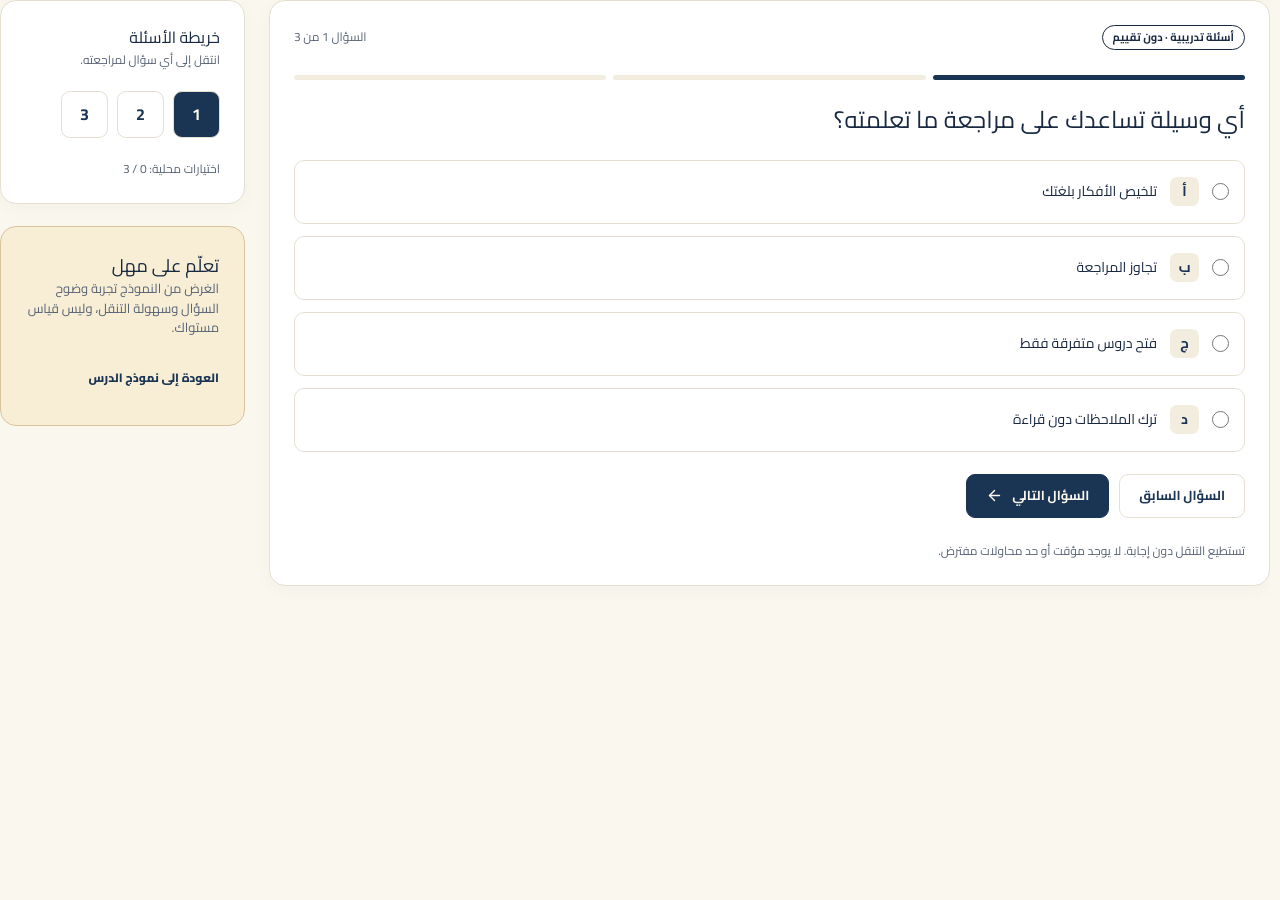
Test: local learner interactions › reviews local quiz answers without grading or submitting a result
The image size is (1280, 900).
Click the radio button labelled "أ تلخيص الأفكار بلغتك".
click(1220, 192)  # box [1212,183,1229,200]
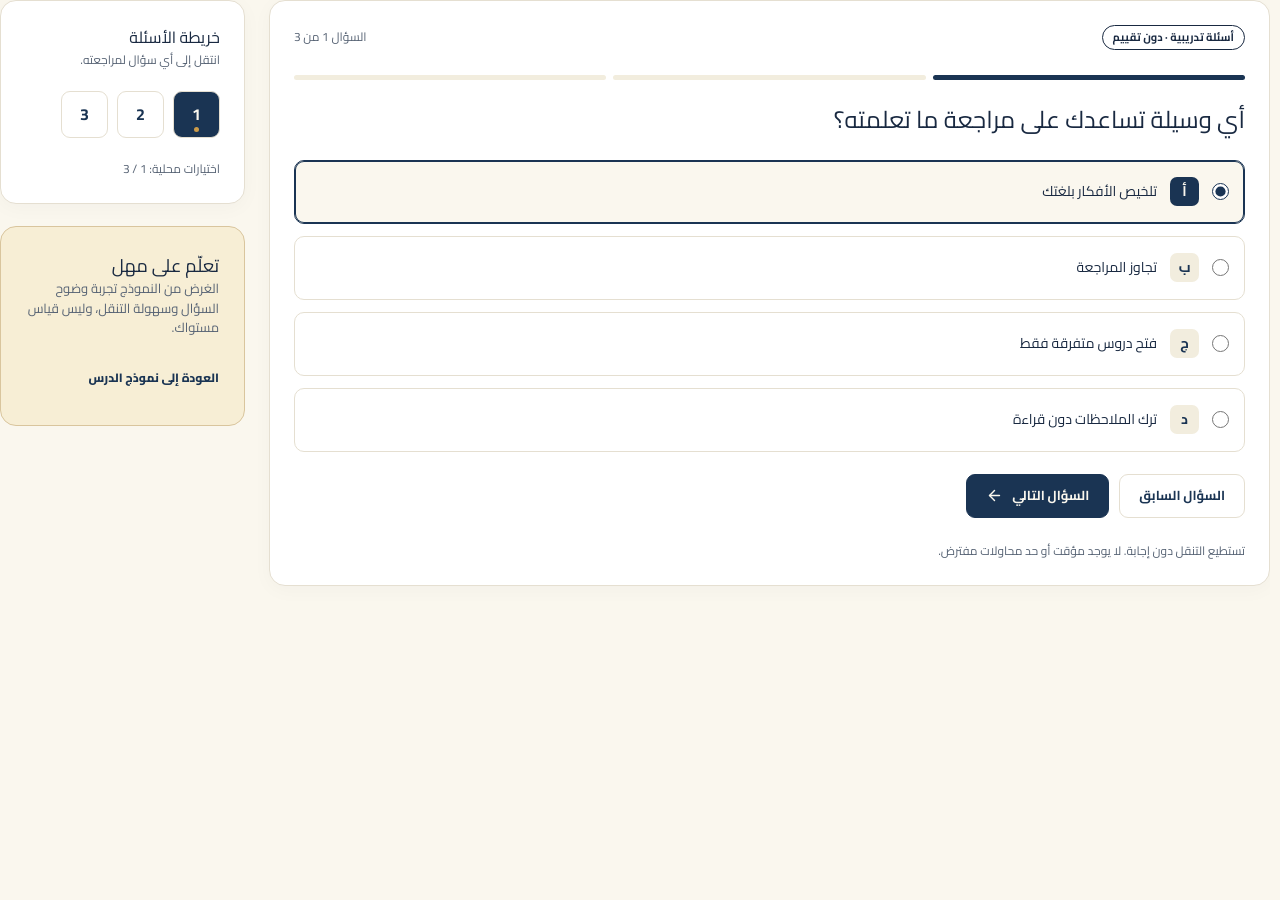
Click the button "السؤال التالي".
click(1038, 496)  # box [966,474,1109,518]
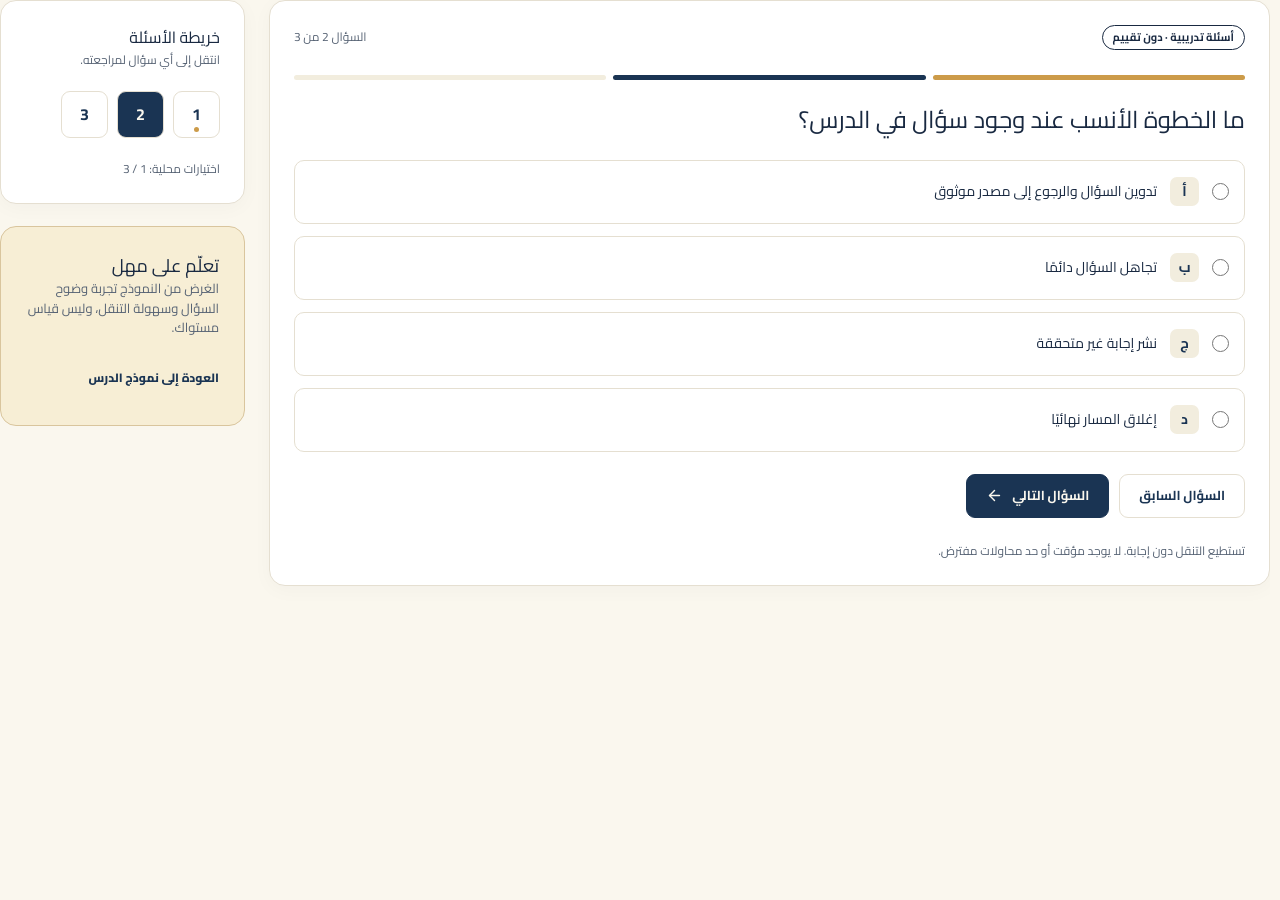
Click the radio button labelled "أ تدوين السؤال والرجوع إلى مصدر موثوق".
click(1220, 192)  # box [1212,183,1229,200]
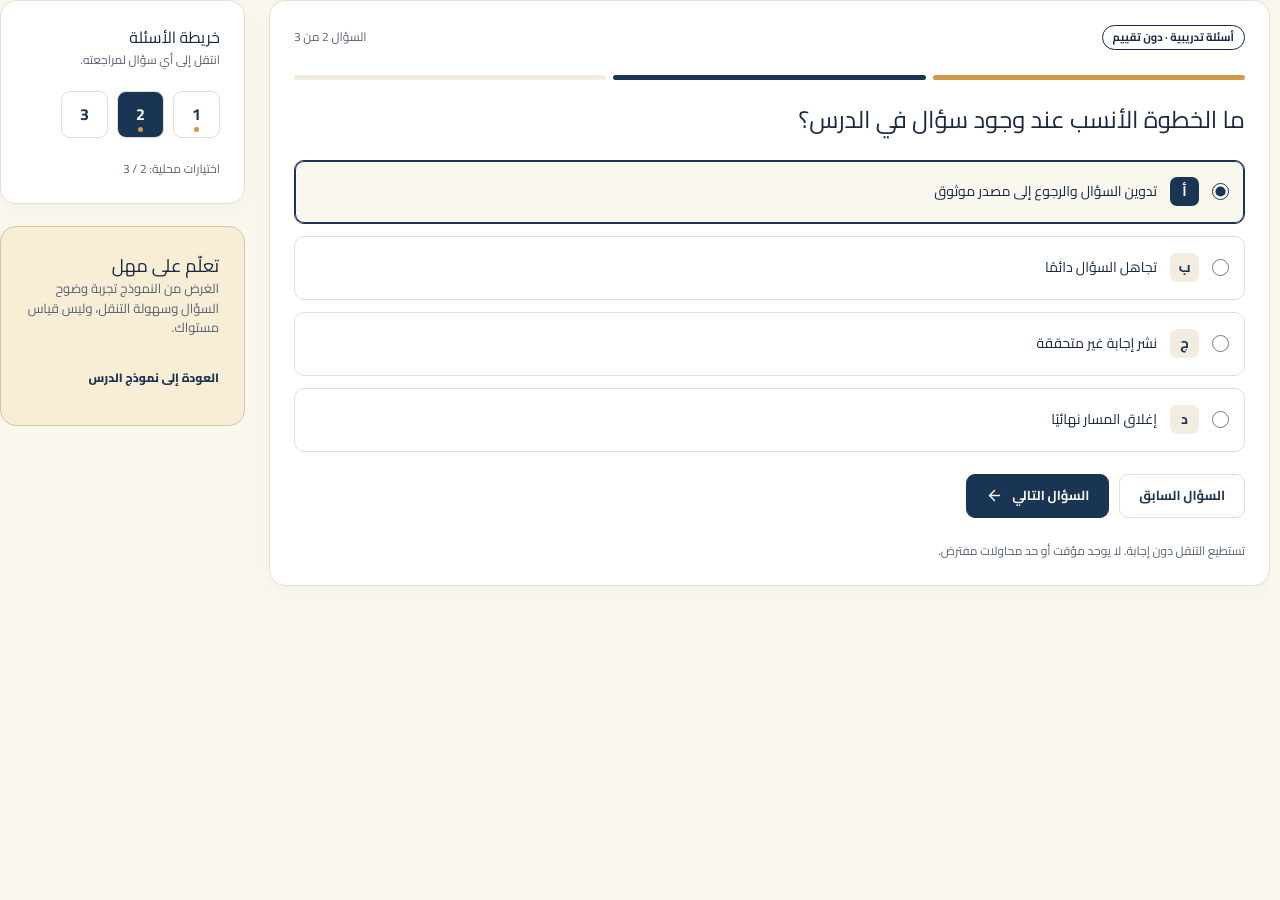
Click the button "السؤال التالي".
click(1038, 496)  # box [966,474,1109,518]
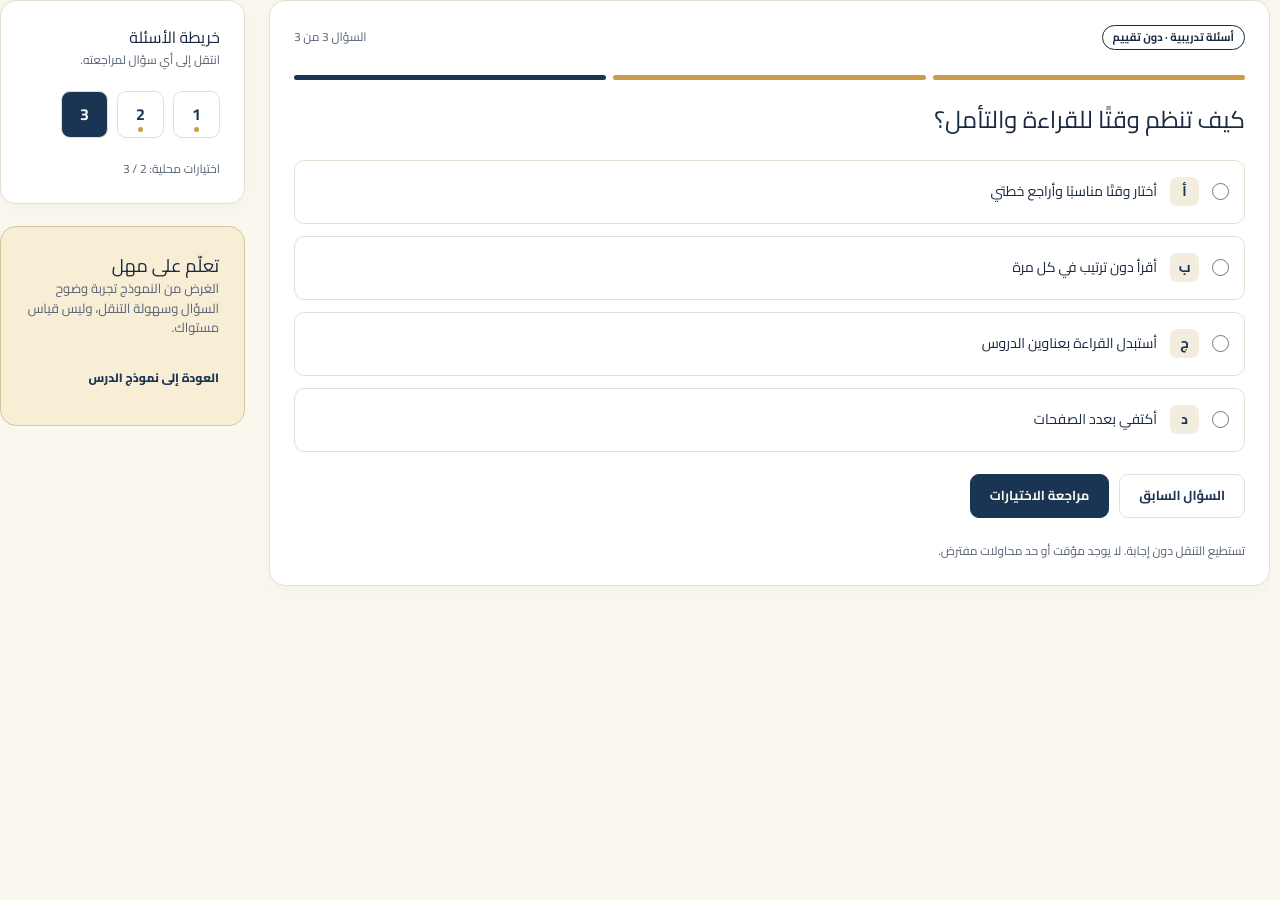
Click the button "مراجعة الاختيارات".
click(1040, 496)  # box [970,474,1109,518]
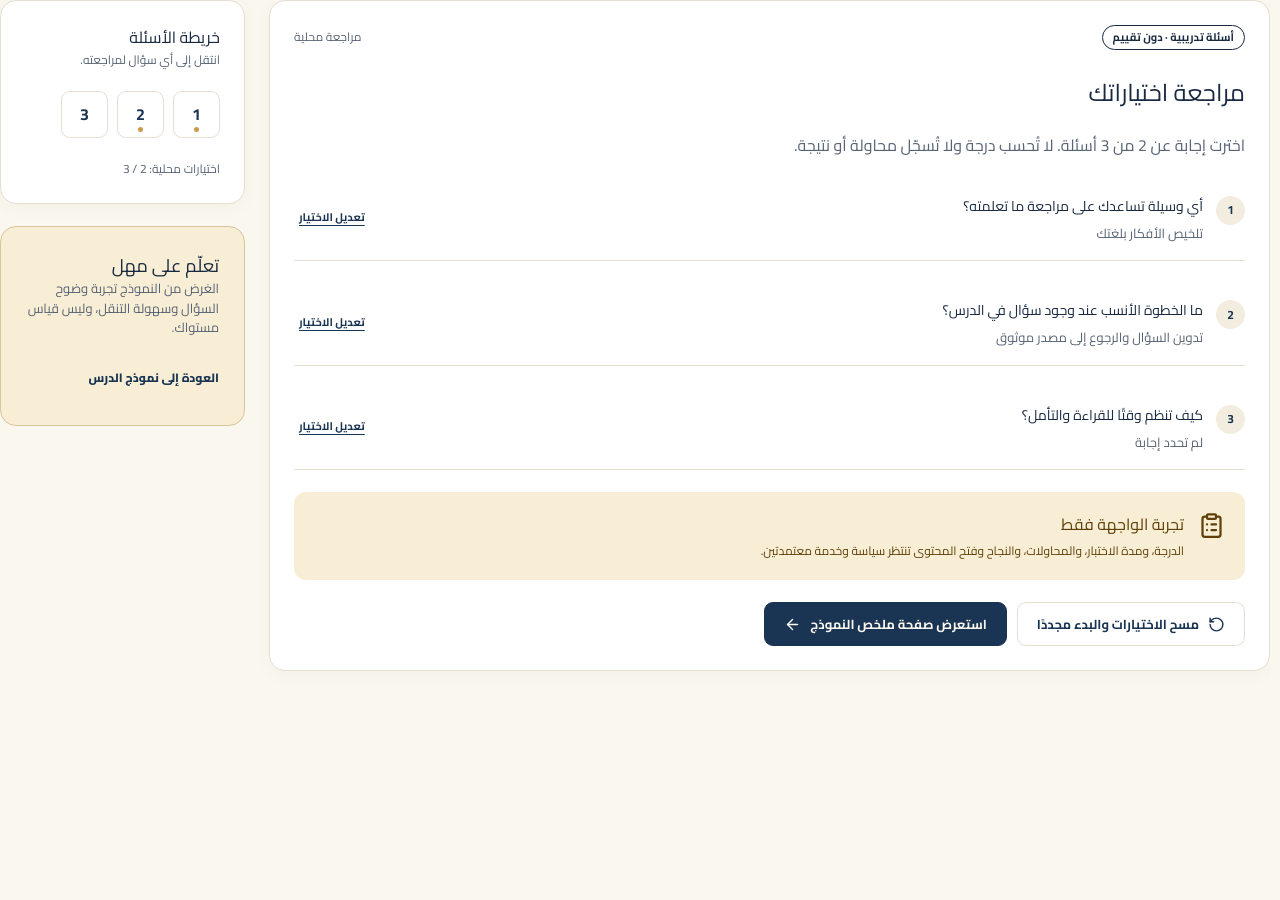
Check: the heading "مراجعة اختياراتك" is shown, box [1088,70,1245,114]
Check: the text "اخترت إجابة عن 2 من 3 أسئلة" is shown, box [794,130,1245,160]
Check: the text "لم تحدد إجابة" is shown, box [1135,430,1203,454]
Click the button "مسح الاختيارات والبدء مجددًا".
click(1131, 624)  # box [1017,602,1245,646]
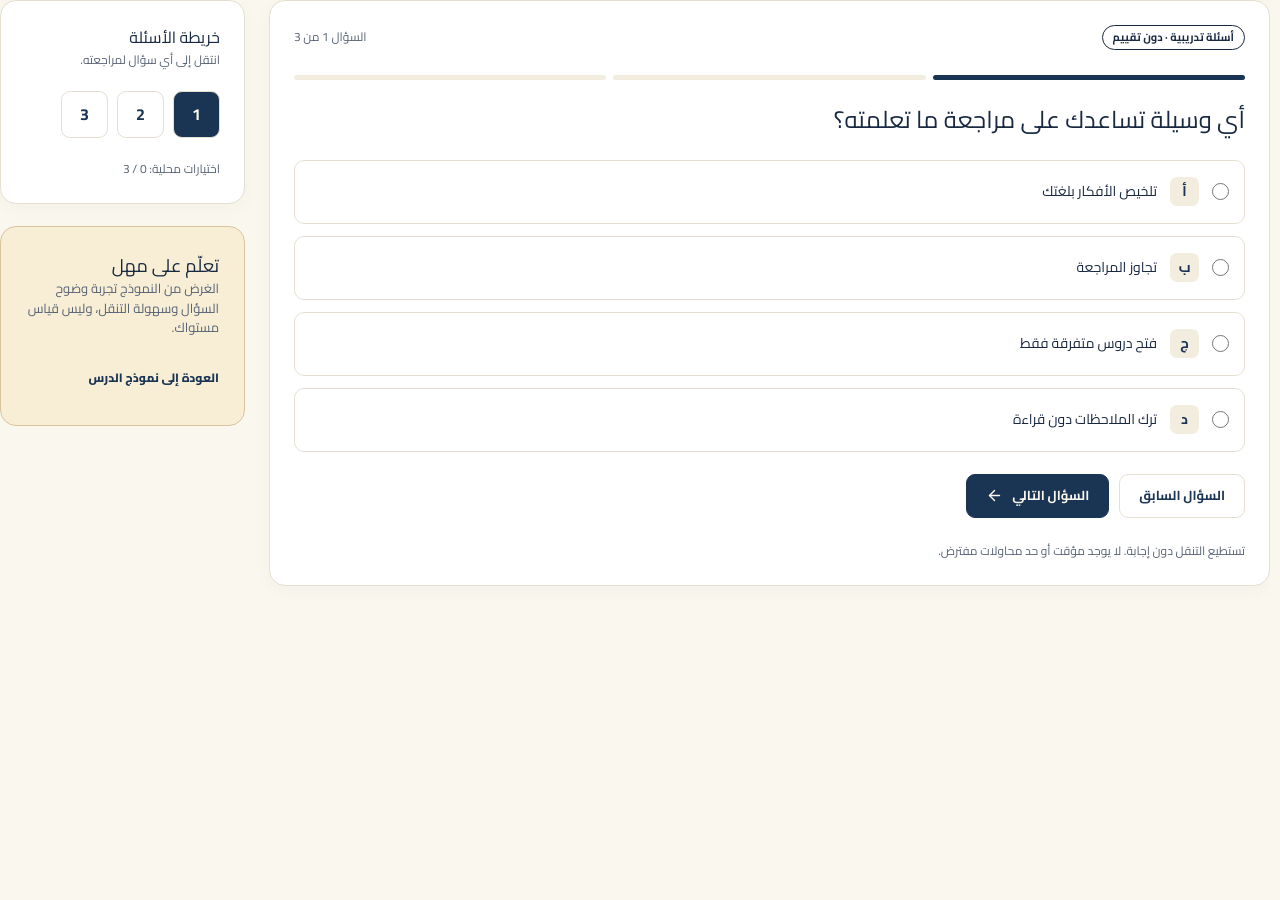
Check: the message shows "0 / 3", box [123,157,220,180]
